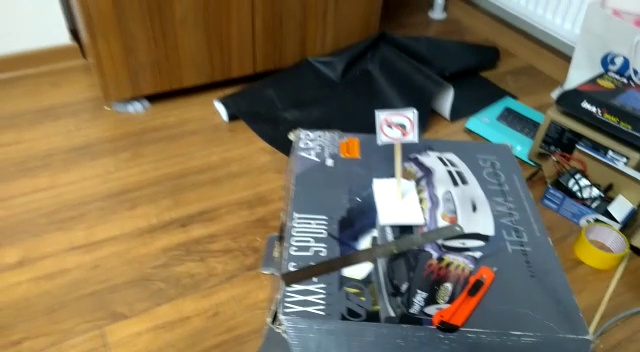sola_donulmez: (379, 111, 415, 142)
